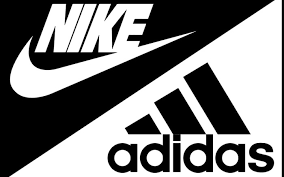nike: (7, 34, 209, 97)
